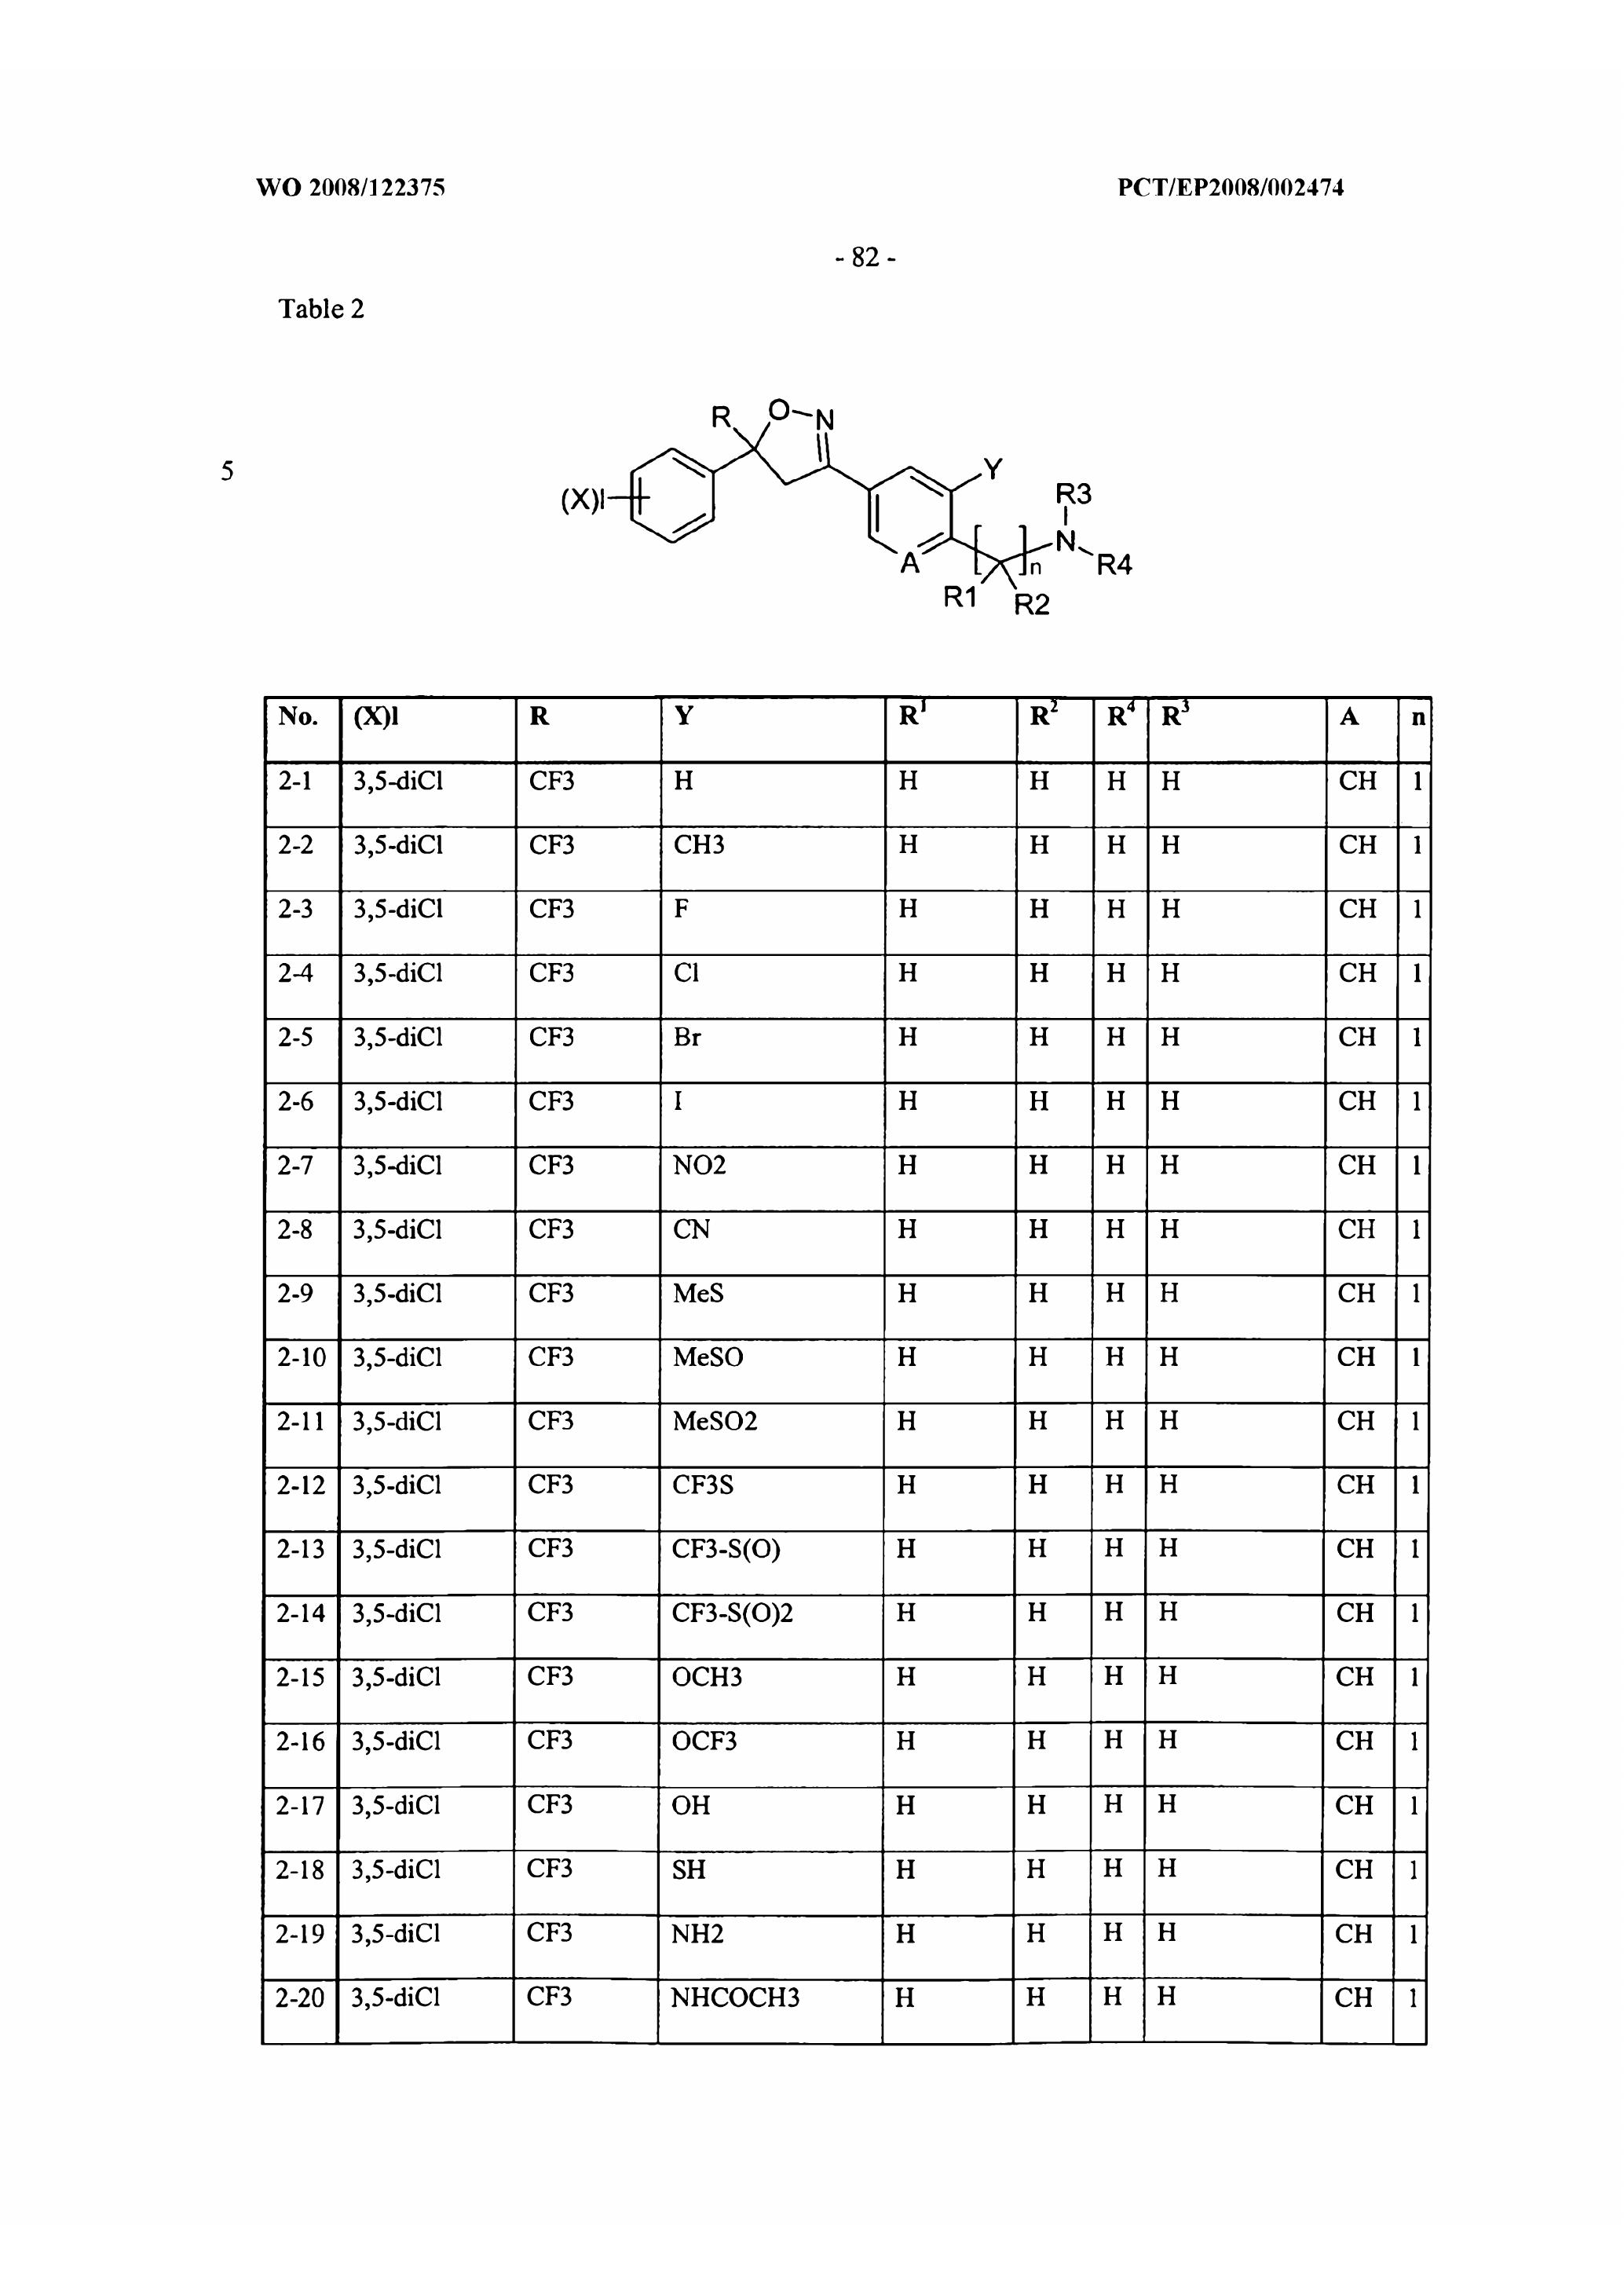markush-structures: (504, 332, 1183, 661)
